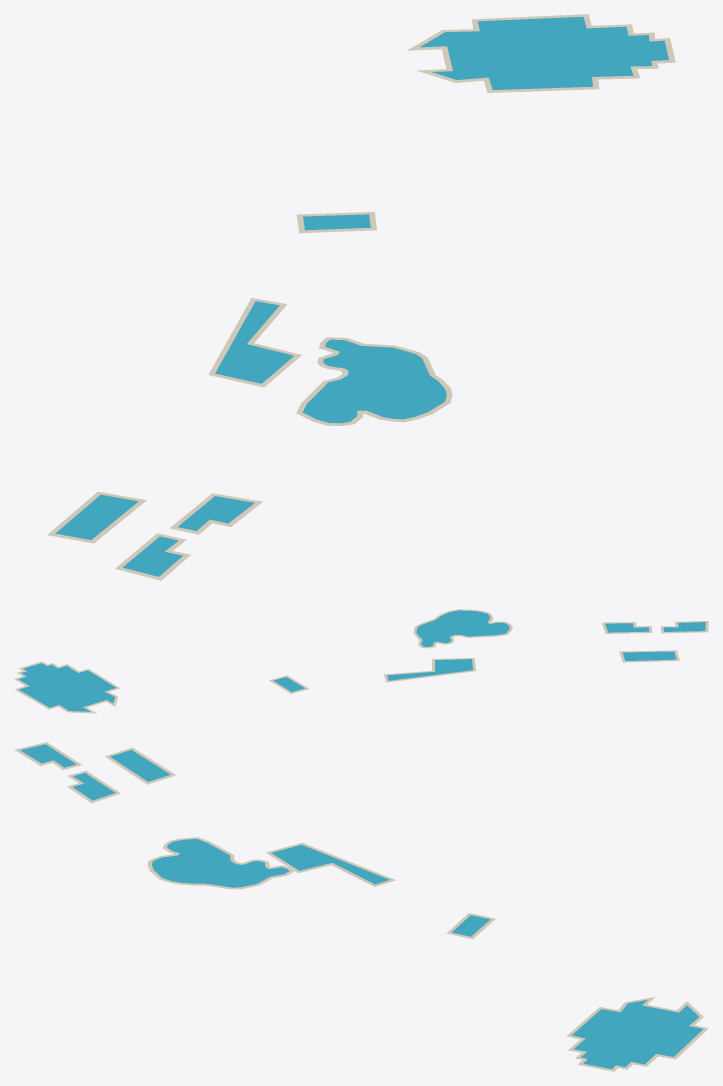
File: pbpool_m22_m13.glb
3 renders of one model, top to bottom at view 1: azimuth 30°, elevation 25°; view 2: azimuth 150°, elevation 25°; view 3: azimuth 270°, elevation 25°, orthographic. The views are drawn at different scales.
Visible parts, largest first — view 1: pbpool_m22_m13_lod0; view 2: pbpool_m22_m13_lod0; view 3: pbpool_m22_m13_lod0.
Part boxes in pixels (x1,y1,x2,y2): pbpool_m22_m13_lod0: (47,14,675,580); pbpool_m22_m13_lod0: (14,609,708,713); pbpool_m22_m13_lod0: (14,742,708,1071).
Size of what is drawn, in the model's own units: 246 by 6.94 by 221.
